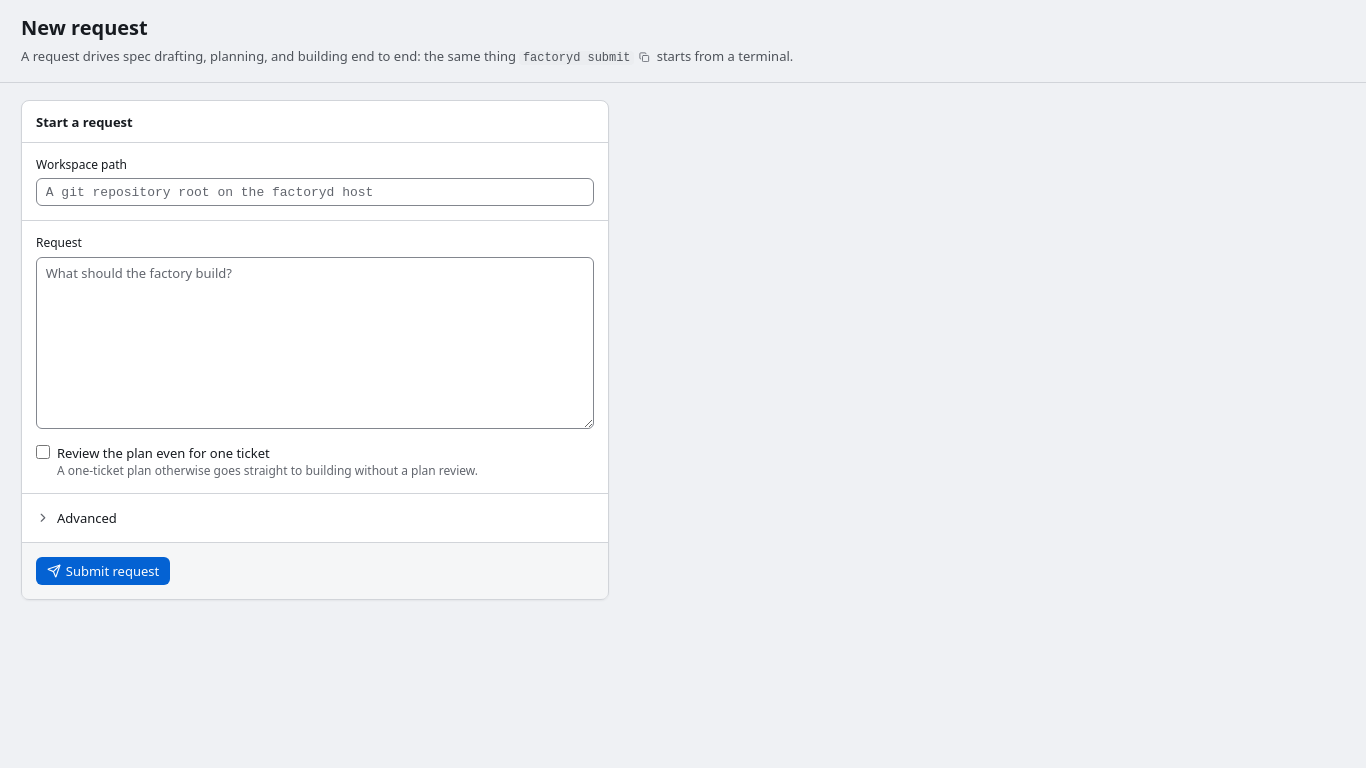
it: NewRequestScreen › shows the server's message when the create is refused
Type "/nope" into the field labelled "Workspace path". click: (315, 192)
box: [36,178,594,206]
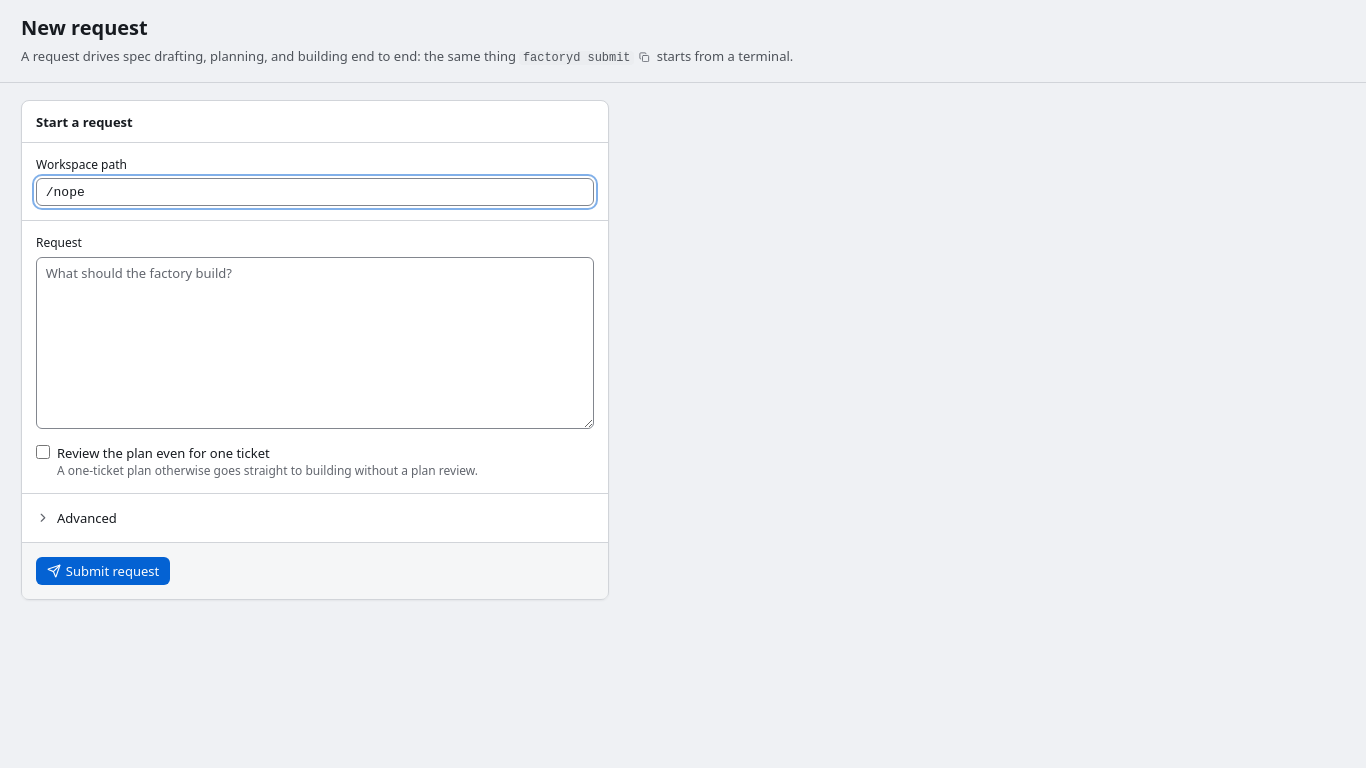
Type "x" into the text box labelled "Request". click: (315, 343)
box: [36,256,594,429]
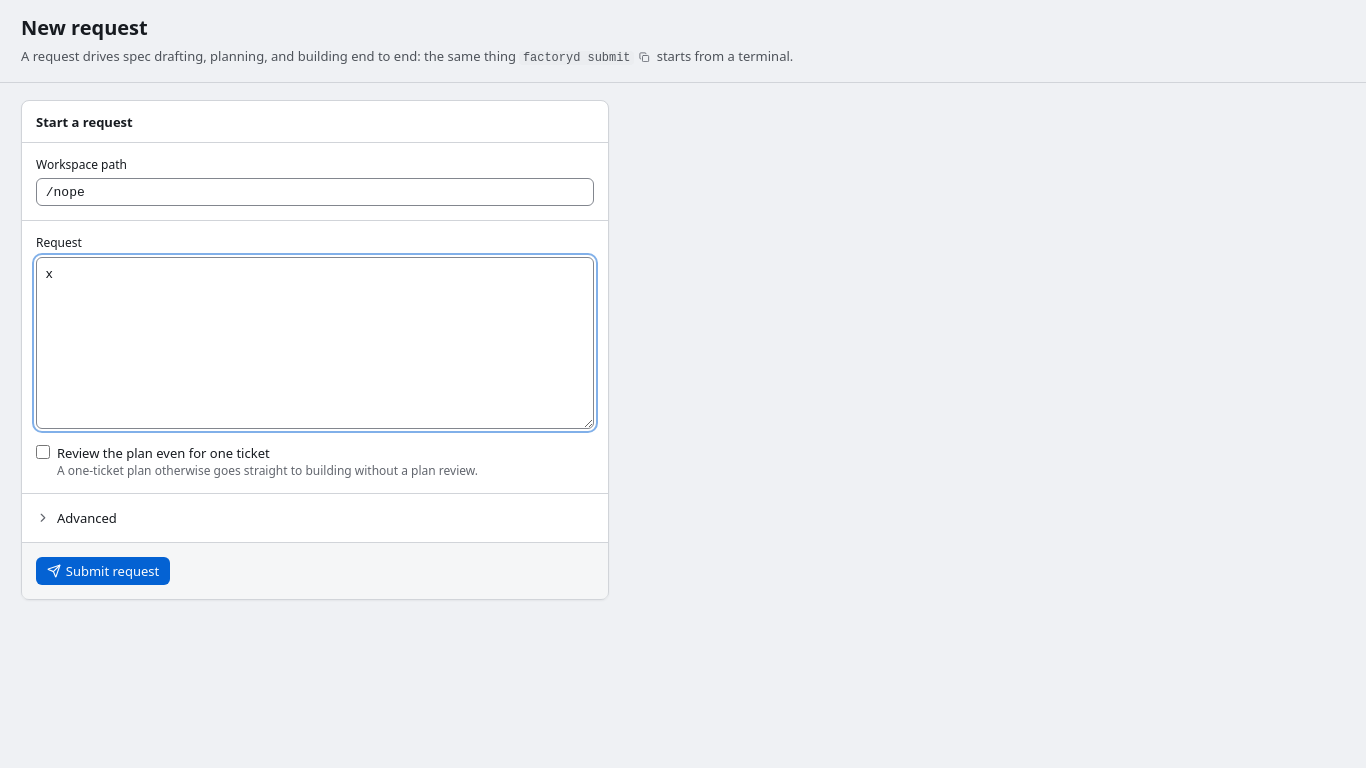
Click the button "Submit request". click: (103, 571)
box: [36,557,170,585]
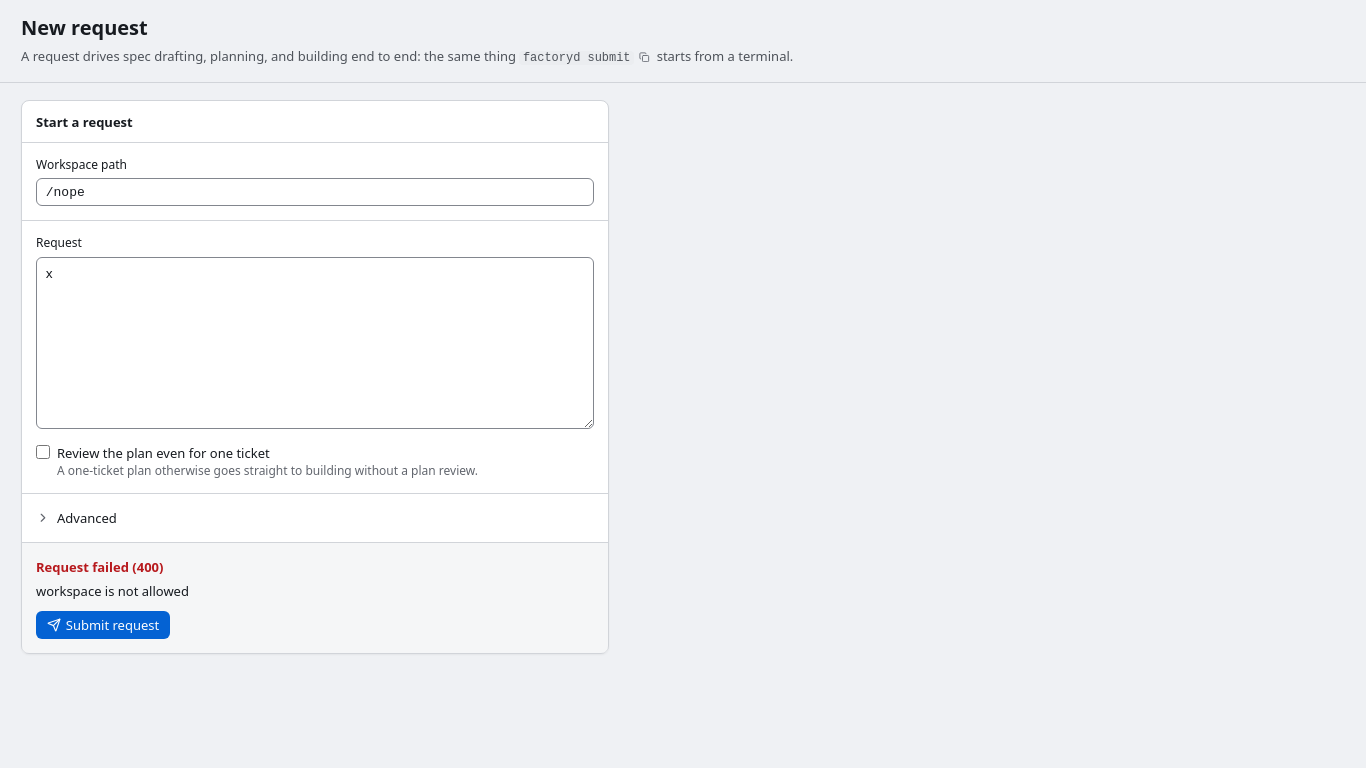
Now the text "workspace is not allowed" is shown, box [36,580,189,600]
